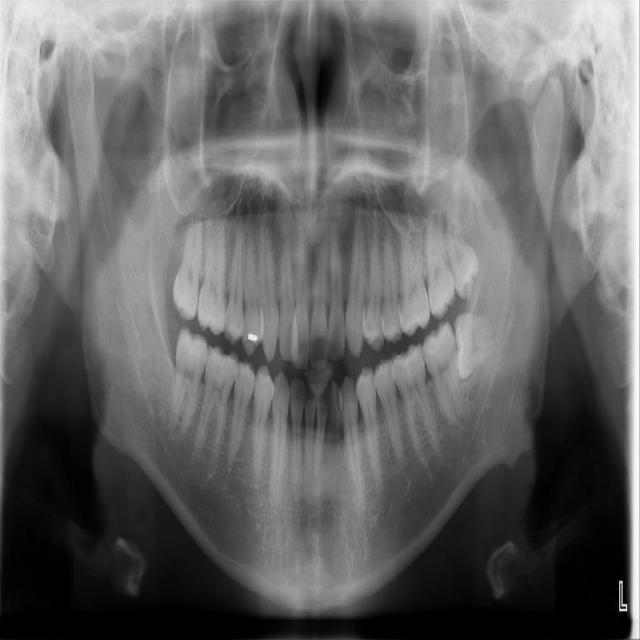3M ESPE Implant: (170, 212, 206, 323)
52: (240, 307, 265, 355)
BioHorizons Implant: (422, 210, 457, 318)
BioLife Implant: (439, 198, 486, 302)
Biomet 3i Implant: (451, 310, 497, 381)
Blue Sky Bio Implant: (418, 321, 467, 430)
Caries: (198, 213, 227, 335)
Implant: (169, 328, 209, 435)
